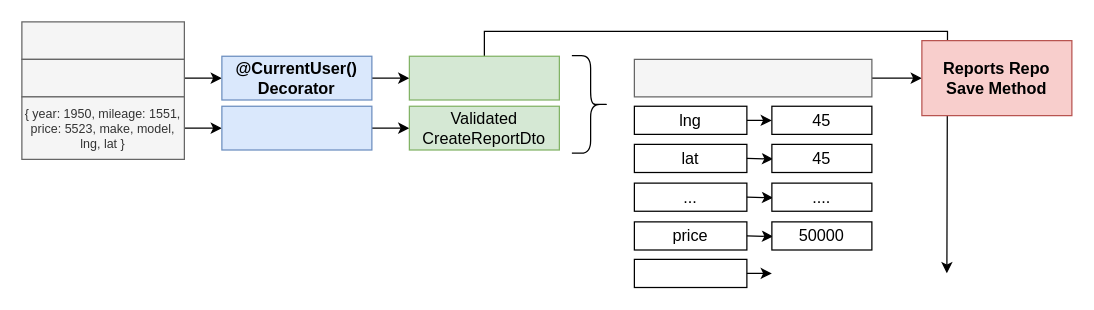
The diagram is 1094 pixels wide and 310 high, and some of its shapes have lost their labels. The shapes that lost their labels are listed below. From the top down, each one's centre as x and y in pixels, then its label:
point (102, 40): POST /reports
point (102, 77): Cookie: asdfj14
point (483, 77): user entity instance
point (752, 77): Report Entity Instance
point (296, 127): @Body() CreateReportDto
point (690, 273): user
